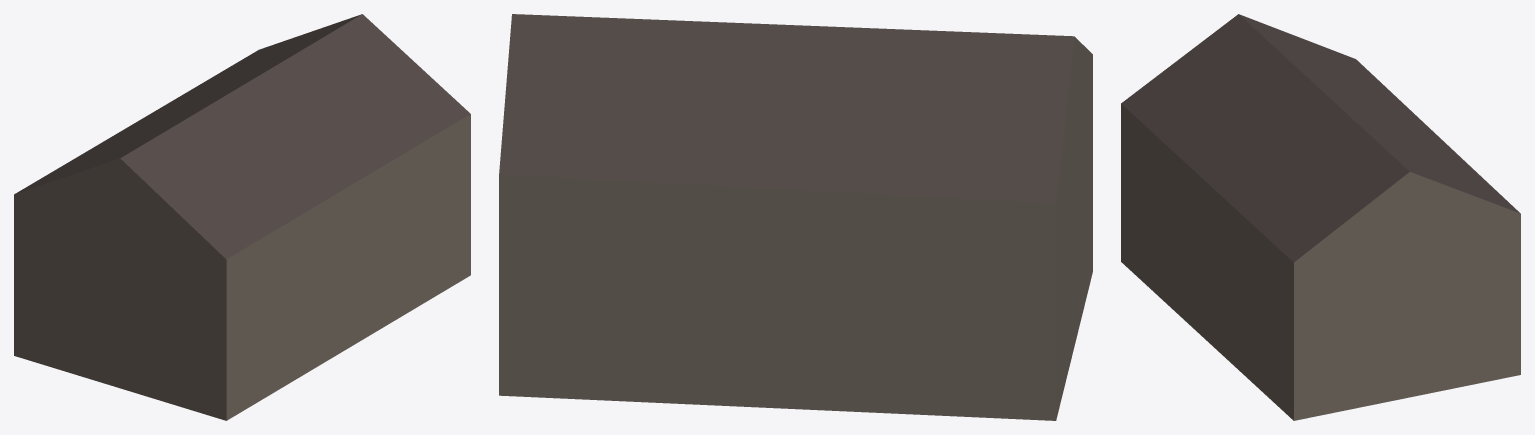
3 renders of one model, left to right at view 1: azimuth 30°, elevation 25°; view 2: azimuth 150°, elevation 25°; view 3: azimuth 270°, elevation 25°, orthographic. The views are drawn at different scales.
Parts seen in each view (by area): view 1: HP-w1367350934; view 2: HP-w1367350934; view 3: HP-w1367350934.
Part boxes in pixels (<box>): HP-w1367350934: <box>14,14,470,420</box>; HP-w1367350934: <box>499,14,1092,420</box>; HP-w1367350934: <box>1121,14,1520,420</box>.
Bounding box in the file's own units: 24.8 × 12.83 × 20.6.
